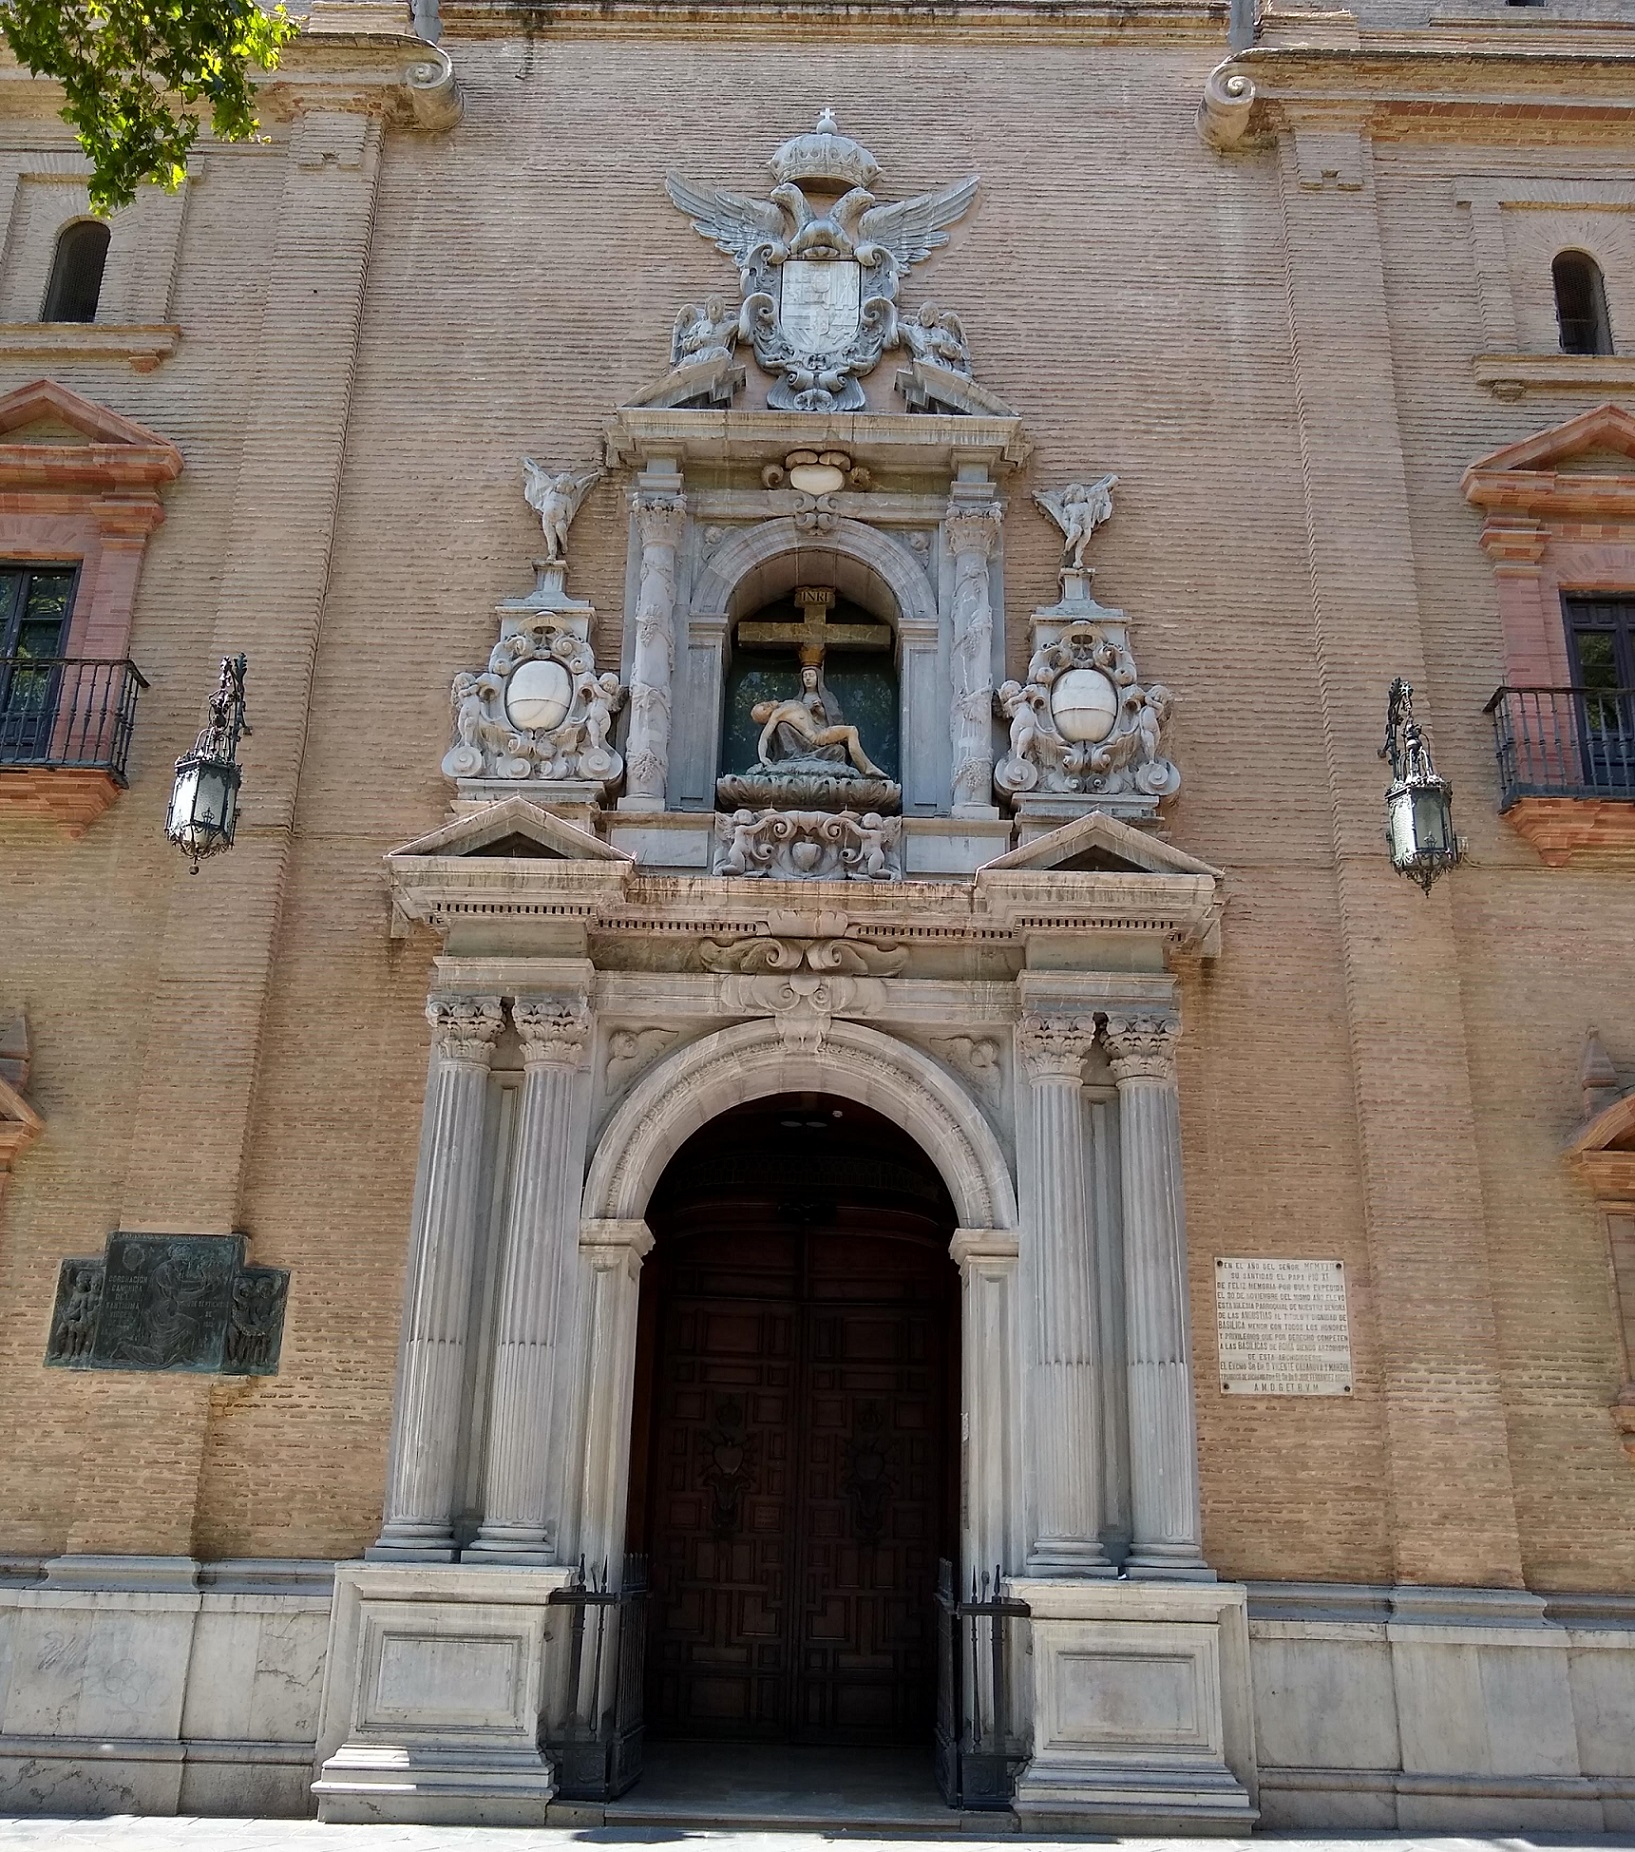arco-medio-punto: (615, 1047, 990, 1297), (709, 543, 923, 666)
fronton: (377, 792, 641, 883), (971, 809, 1225, 899), (2, 361, 196, 476), (1452, 391, 1635, 510)
fronton-partido: (601, 355, 1032, 448)
